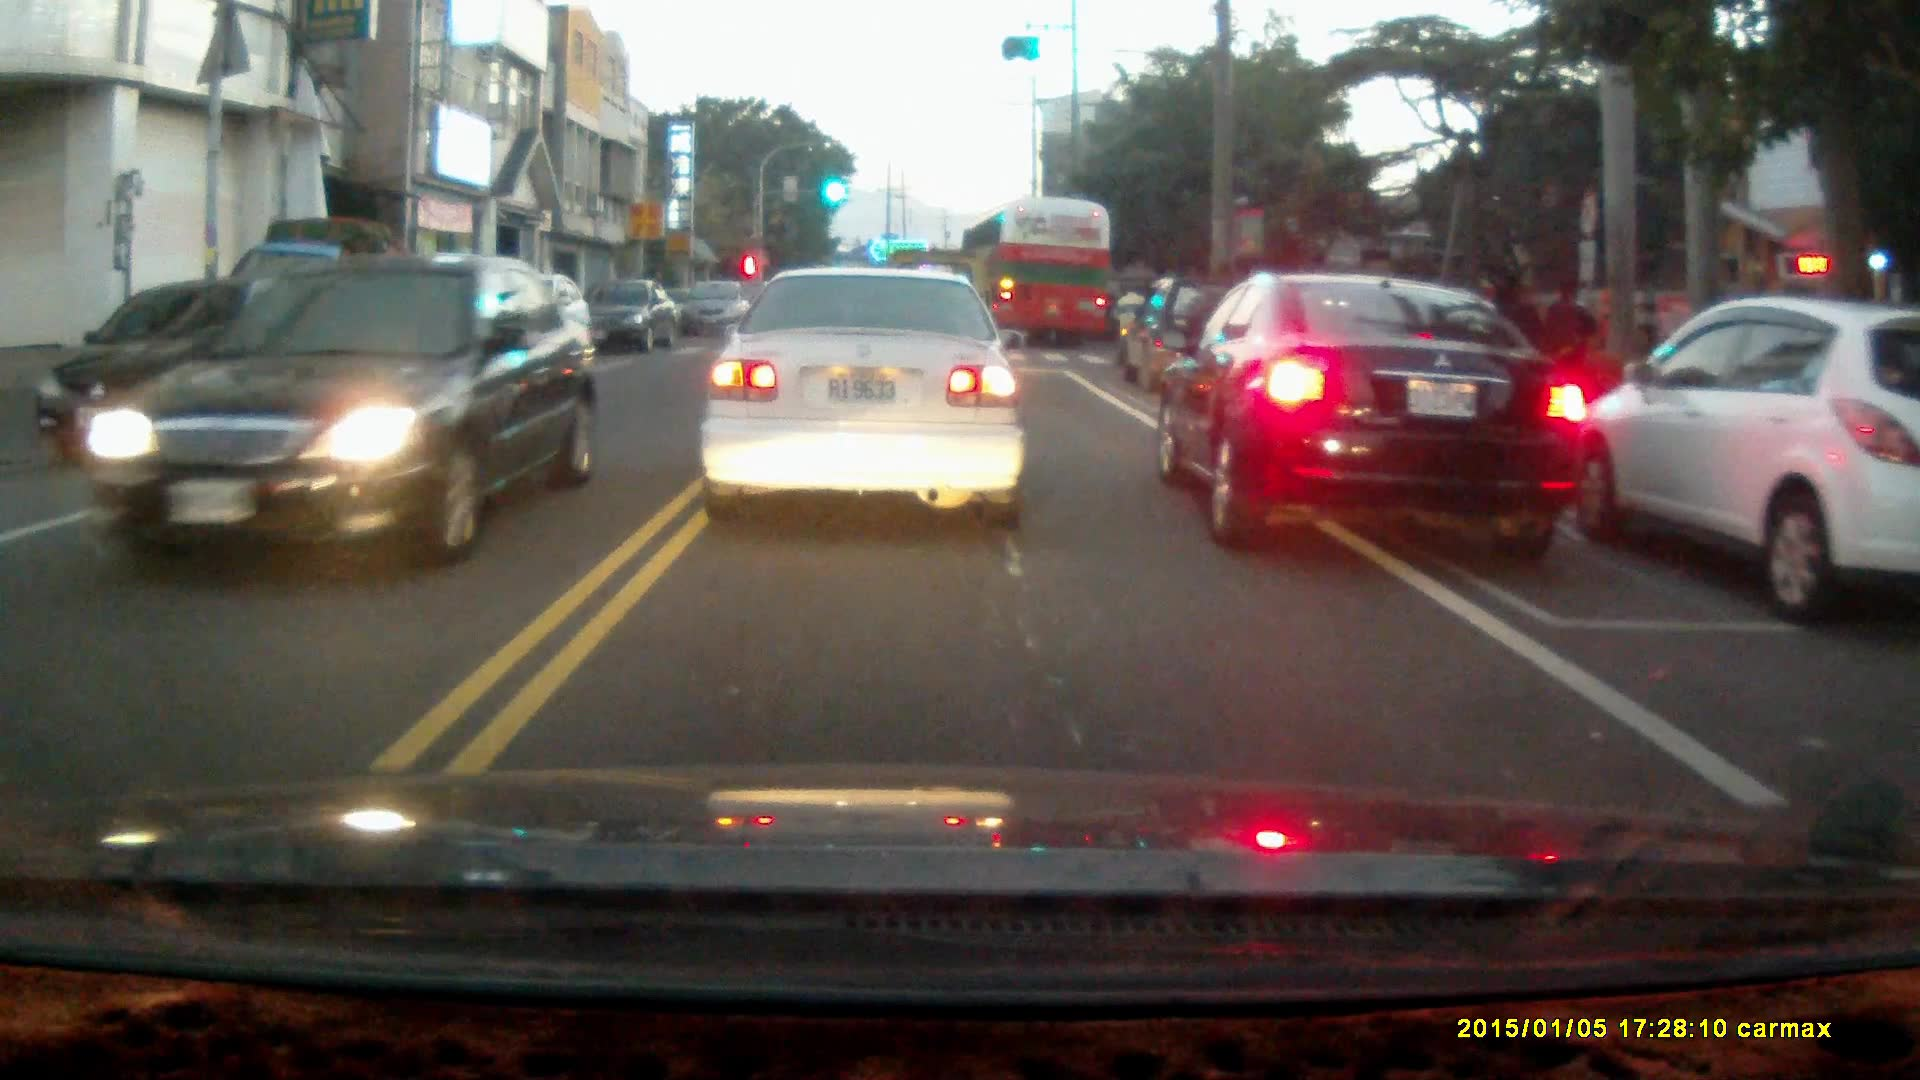pedestrian: (1538, 274, 1596, 414), (1484, 275, 1533, 417)
rider: (1112, 281, 1149, 360)
vehicle: (87, 253, 592, 577), (1155, 274, 1592, 556), (1555, 295, 1920, 624), (699, 264, 1028, 531), (38, 275, 359, 464), (212, 219, 444, 404), (962, 204, 1111, 355), (1122, 279, 1284, 400), (575, 277, 681, 359), (681, 282, 754, 341)
